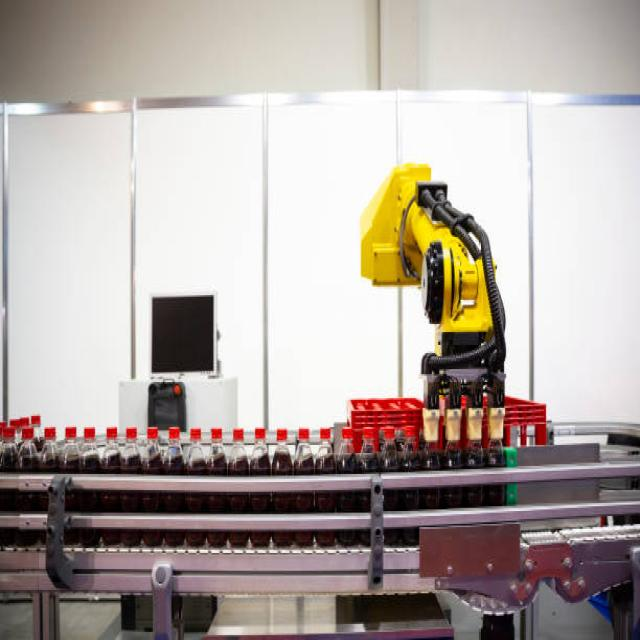Robotic-arm: (349, 140, 528, 434)
